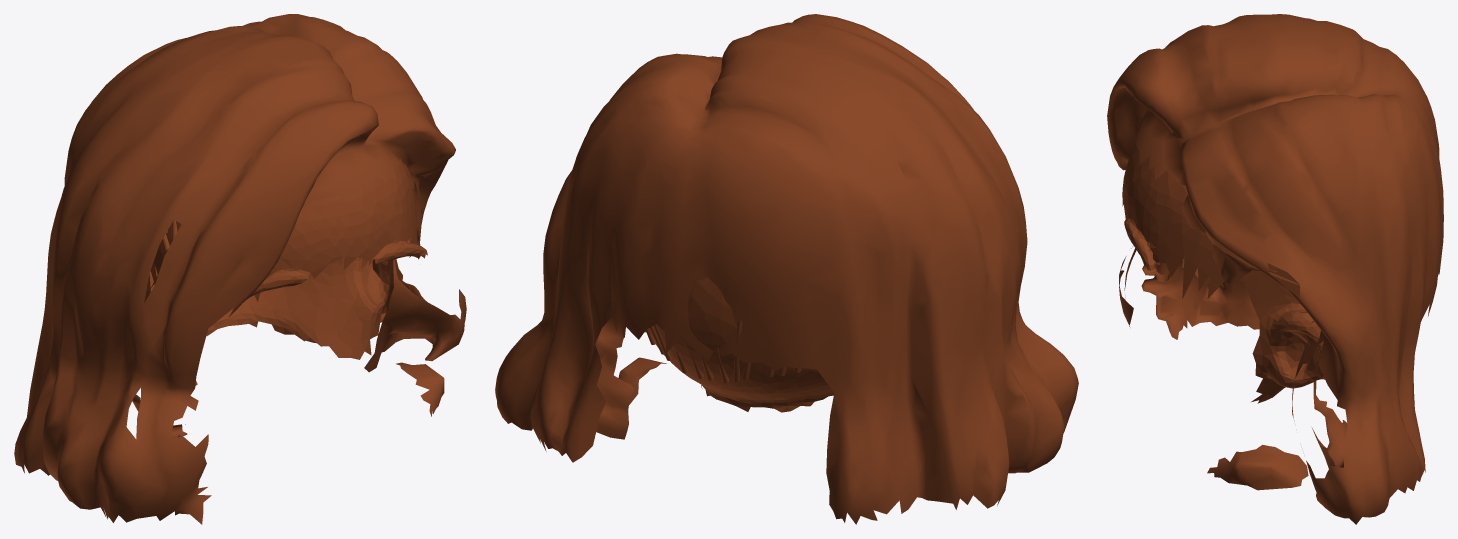
The model's file is long-wavy.glb.
The picture shows the model from 3 angles, left to right: view 1: azimuth 30°, elevation 25°; view 2: azimuth 150°, elevation 25°; view 3: azimuth 270°, elevation 25°; orthographic projection. The views are drawn at different scales.
Parts seen in each view (by area): view 1: Hair, HairScalp; view 2: Hair, HairScalp, HairPulledRootStrands; view 3: Hair, HairScalp.
Boxes of the visible parts, x1,y1,x2,y2 form: Hair: (14,14,466,524); HairScalp: (144,159,427,395); Hair: (495,14,1078,524); HairScalp: (648,276,834,412); HairPulledRootStrands: (645,311,801,383); Hair: (1107,14,1443,524); HairScalp: (1122,144,1324,403).
Size of the model in its own units: 0.7516 by 0.5811 by 0.4685.
